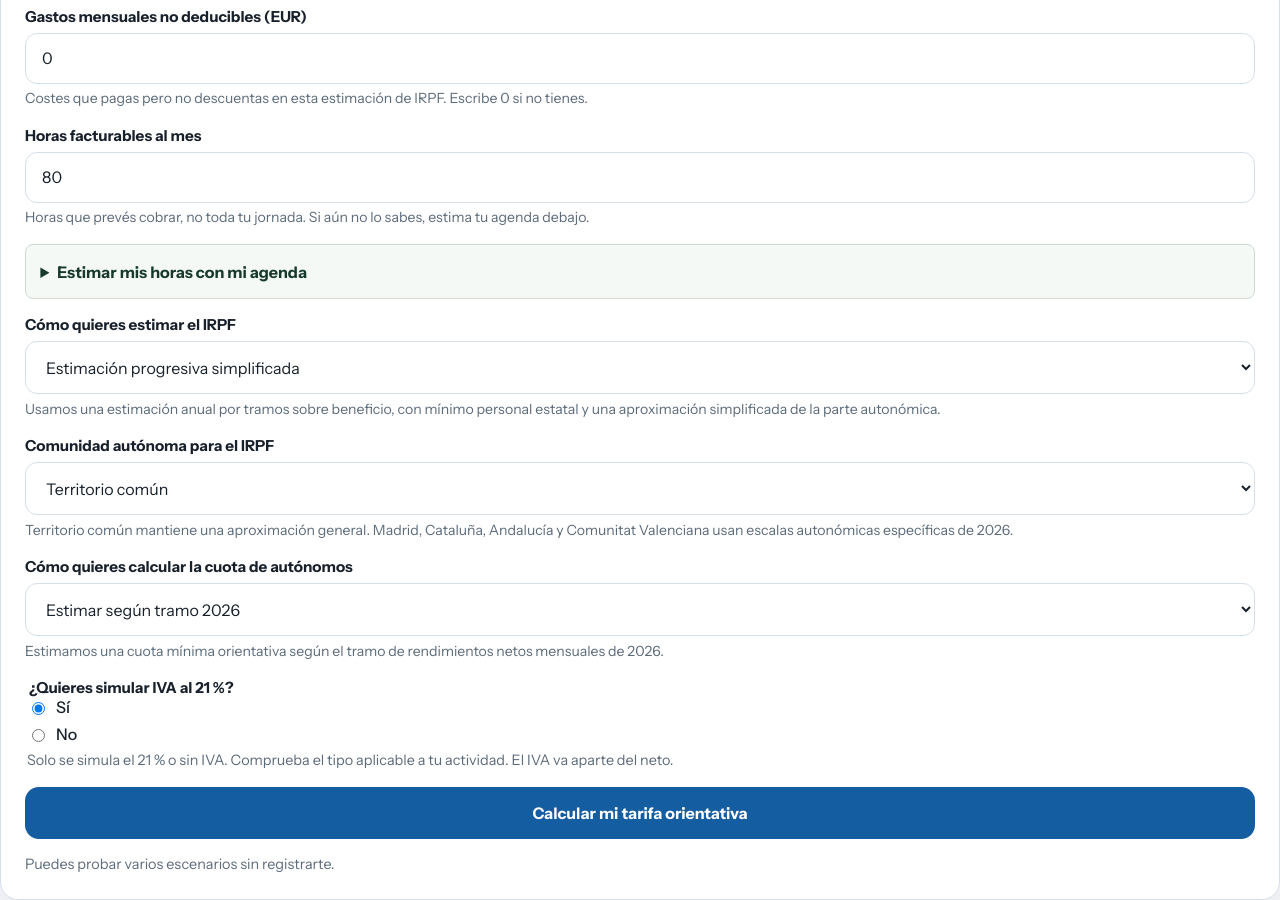
Scenario: CalculatorForm › renders the result card when the form is valid
The width and height of the screenshot is (1280, 900).
(page scrolled)
Click the button "Calcular mi tarifa orientativa".
click(640, 813)  # box [25,787,1255,839]
(page scrolled)
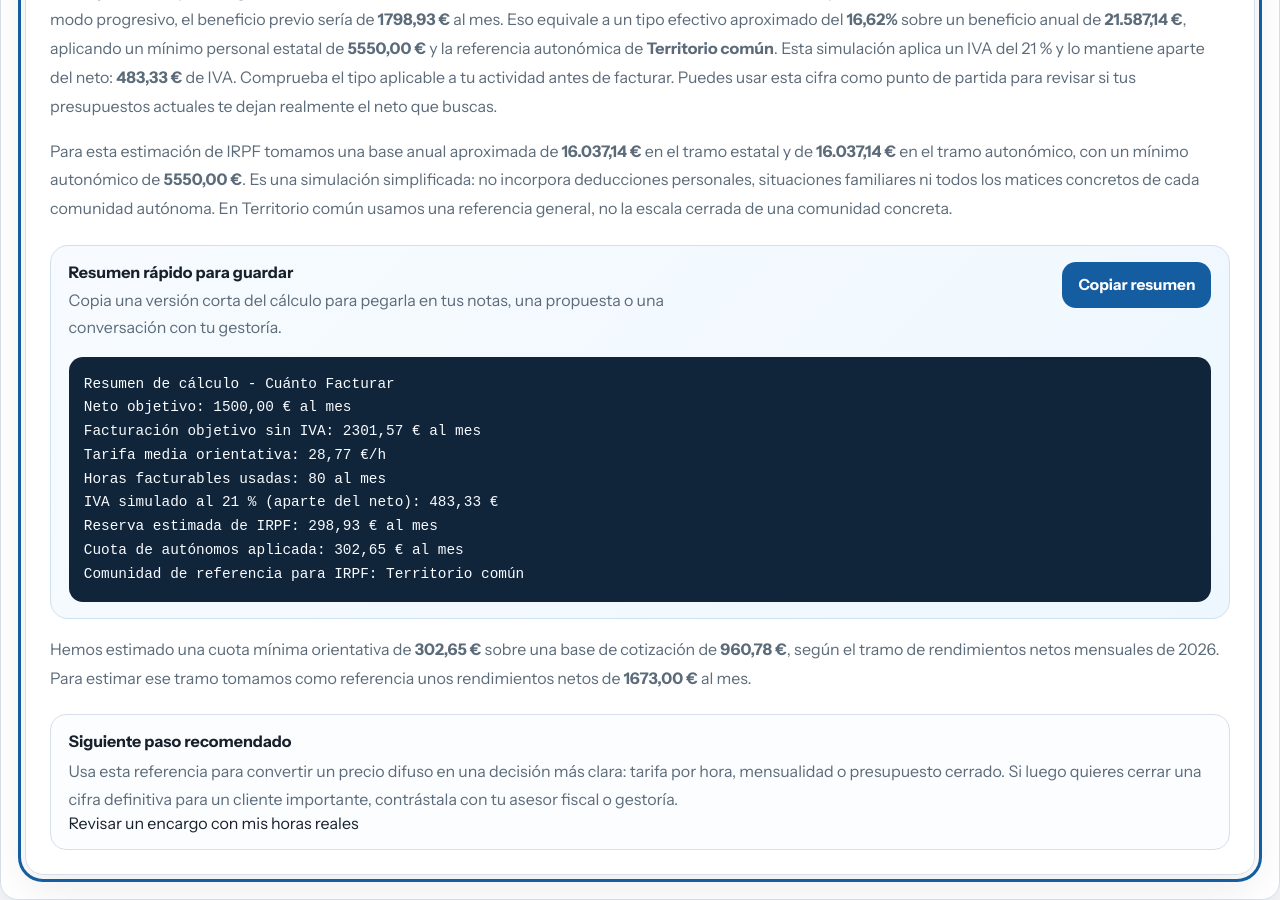
Check: the text "esta simulación aplica un IVA del 21 %" is shown, box [50,38,1205,87]
Check: the text "tipo efectivo aproximado" is shown, box [450,9,847,29]
Check: the text "Hemos estimado una cuota mínima orientativa" is shown, box [50,639,412,659]
